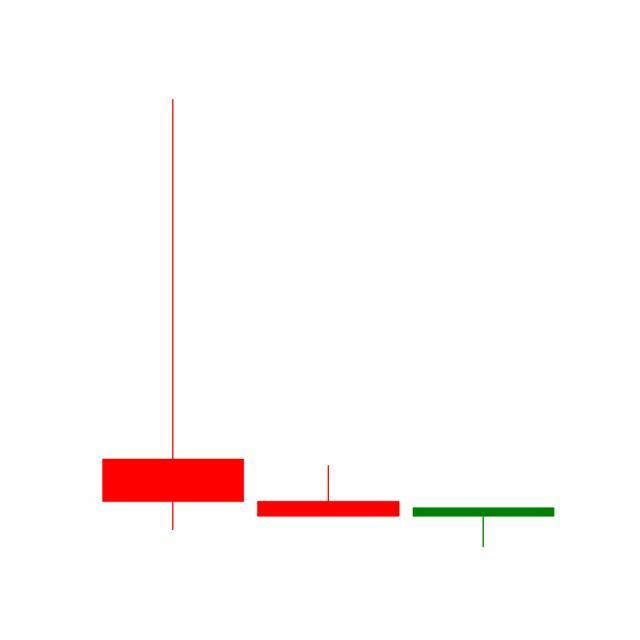Dragonfly Doji: (406, 508, 562, 550)
